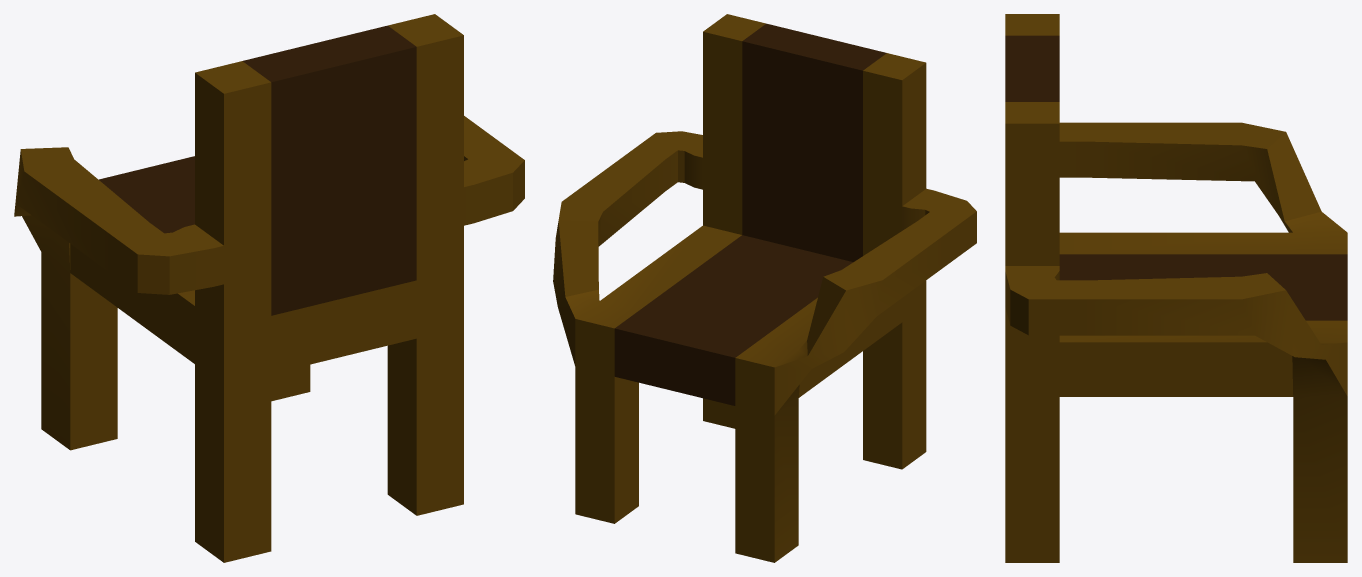
The model's file is lowpoly_chair.fbx.
3 renders of one model, left to right at view 1: azimuth 30°, elevation 25°; view 2: azimuth 150°, elevation 25°; view 3: azimuth 270°, elevation 25°, orthographic. The views are drawn at different scales.
Visible parts, largest first — view 1: chair; view 2: chair; view 3: chair.
Boxes of the visible parts, x1,y1,x2,y2 form: chair: [14, 14, 524, 562]; chair: [553, 14, 976, 562]; chair: [1005, 14, 1347, 562].
Size of the model in its own units: 73.31 by 84.92 by 60.
